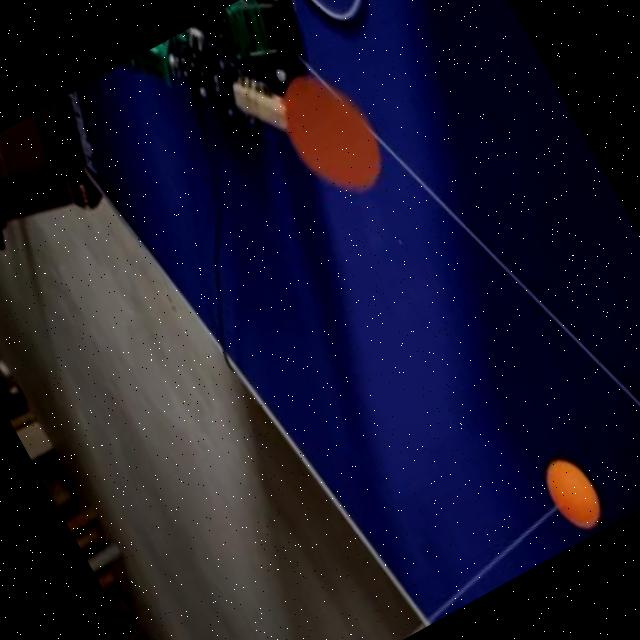ping-pong-ball: (534, 447, 610, 538)
